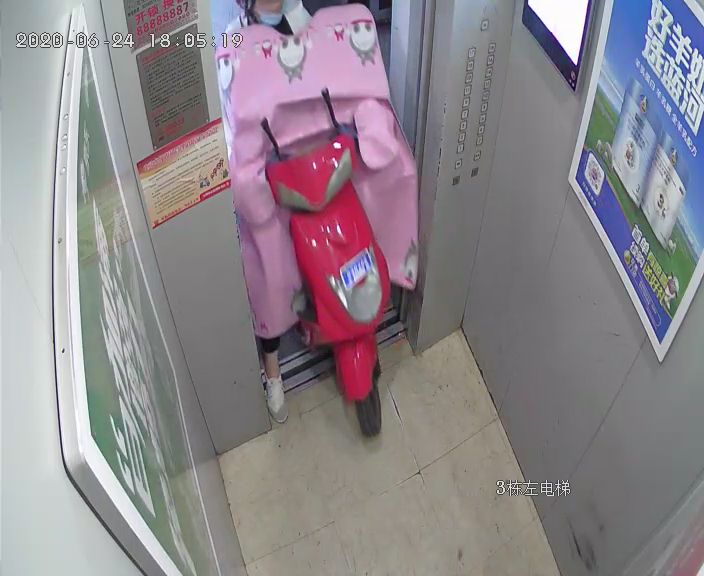Electric-bicycle: (243, 64, 404, 435)
